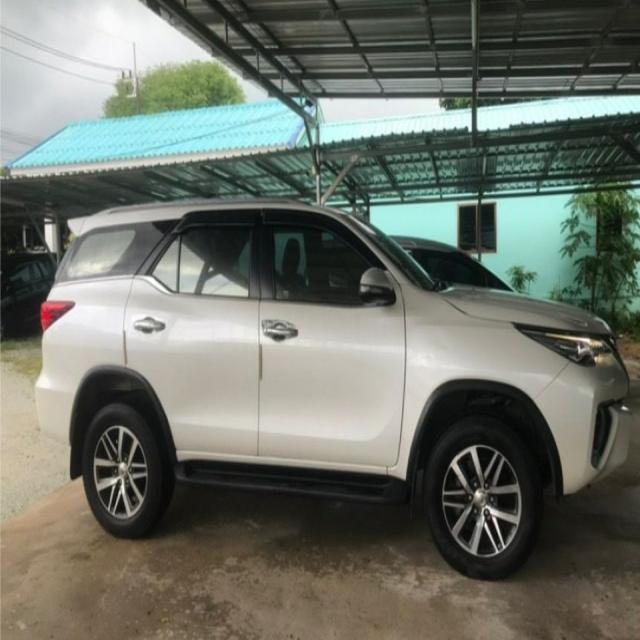light_vehicle: (35, 196, 637, 581)
